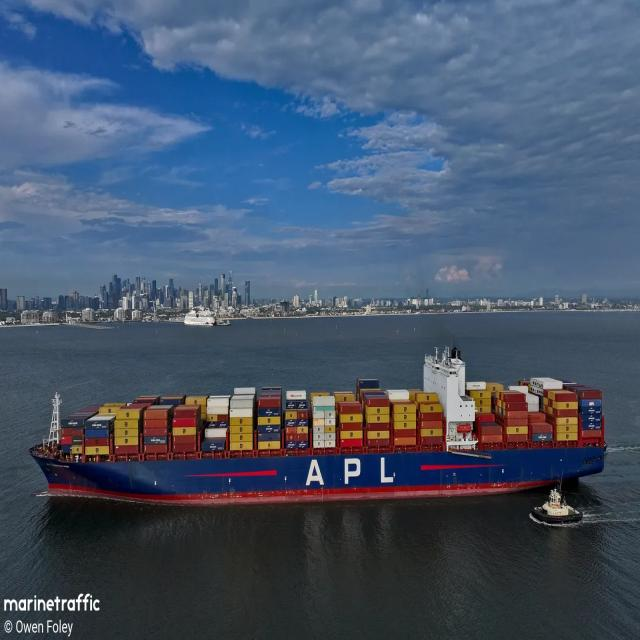Cargo: (29, 348, 604, 504)
Tug: (532, 487, 582, 523)
